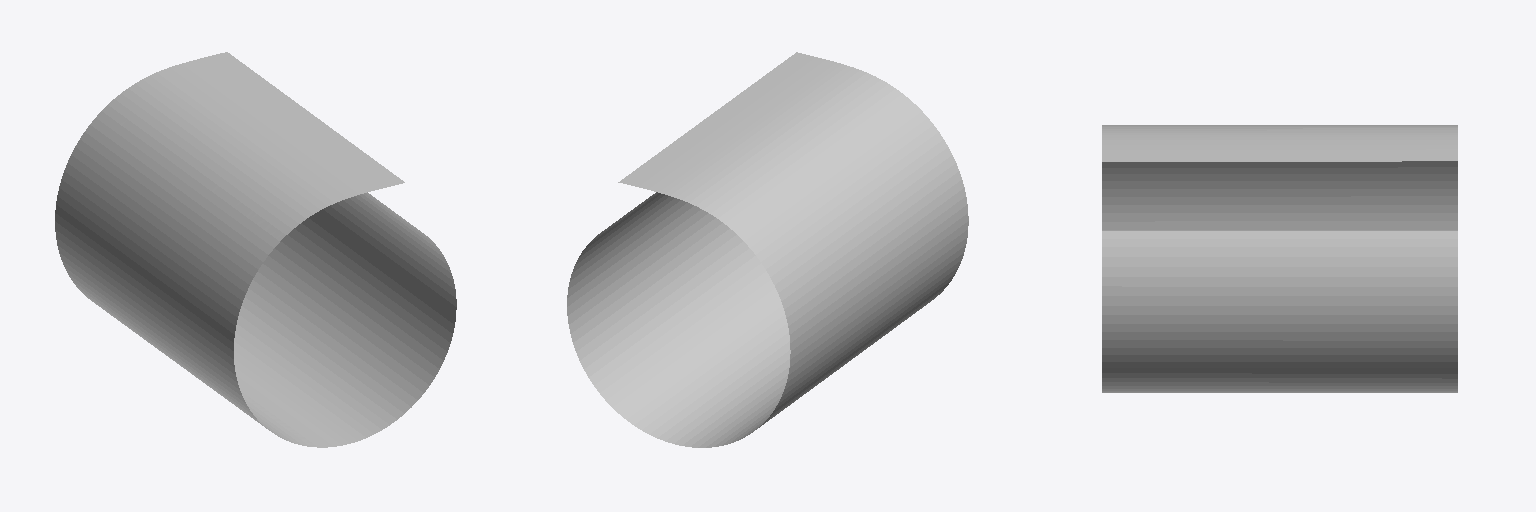
Rendered from CurvePaper_000004.obj.
3 views of the same model, side by side, from view 1: azimuth 30°, elevation 25°; view 2: azimuth 150°, elevation 25°; view 3: azimuth 270°, elevation 25° (orthographic).
Parts seen in each view (by area): view 1: Plane; view 2: Plane; view 3: Plane.
Part boxes in pixels (left/top/right/bottom): Plane: left=55, top=52, right=456, bottom=447; Plane: left=567, top=52, right=968, bottom=447; Plane: left=1102, top=125, right=1457, bottom=392.
Size of the model in its own units: 1.64 by 1.74 by 2.26.